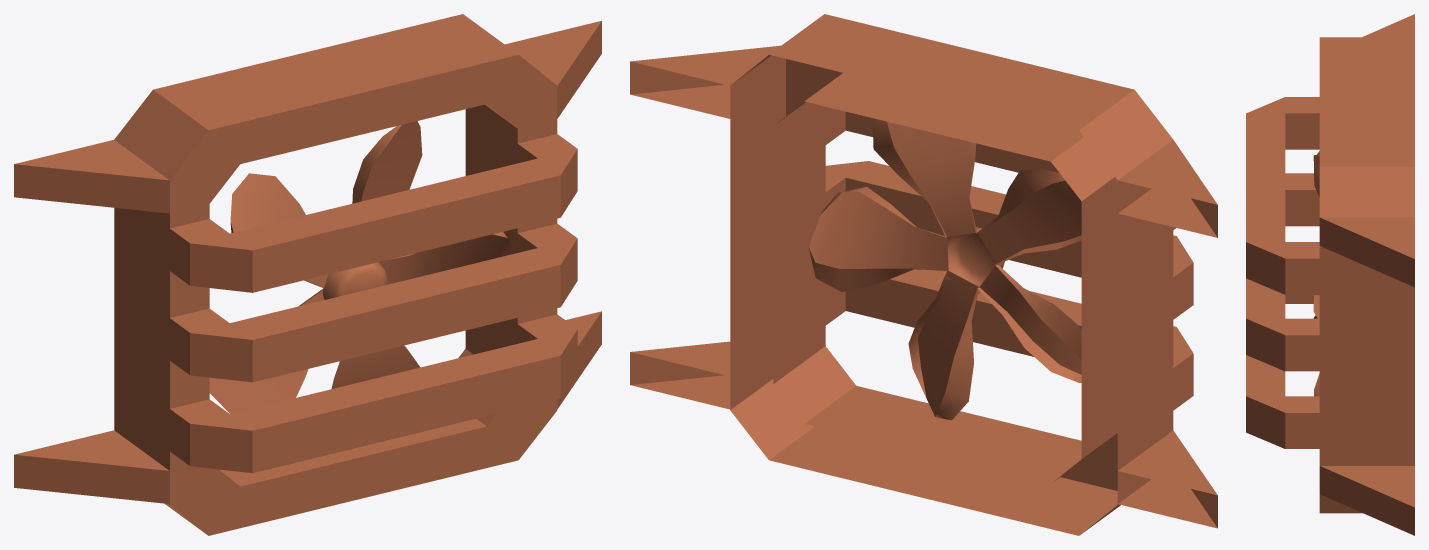
Rendered from mesh_AirConSmall_v1.fbx.
3 renders of one model, left to right at view 1: azimuth 30°, elevation 25°; view 2: azimuth 150°, elevation 25°; view 3: azimuth 270°, elevation 25°, orthographic. The views are drawn at different scales.
Visible parts, largest first — view 1: mesh_AirConSmall; view 2: mesh_AirConSmall; view 3: mesh_AirConSmall.
Boxes of the visible parts, x1,y1,x2,y2 form: mesh_AirConSmall: [14, 14, 601, 535]; mesh_AirConSmall: [630, 14, 1217, 535]; mesh_AirConSmall: [1246, 14, 1414, 535].
Bounding box in the file's own units: 149 × 98.47 × 43.46.
